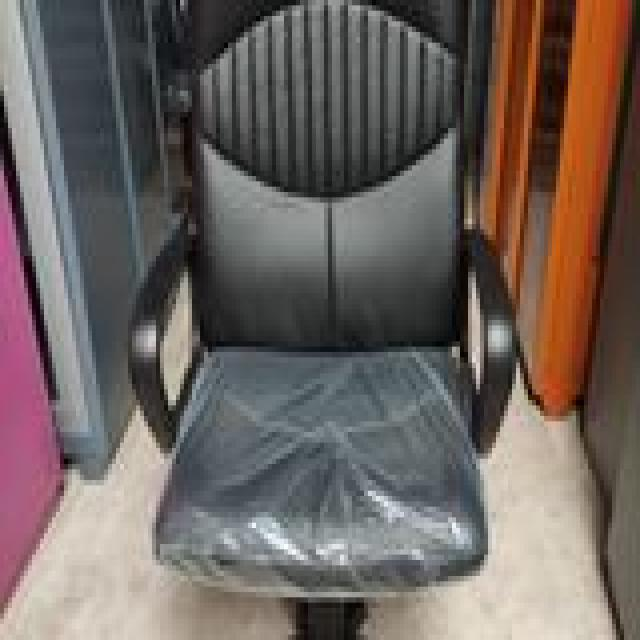others: (112, 5, 512, 598)
